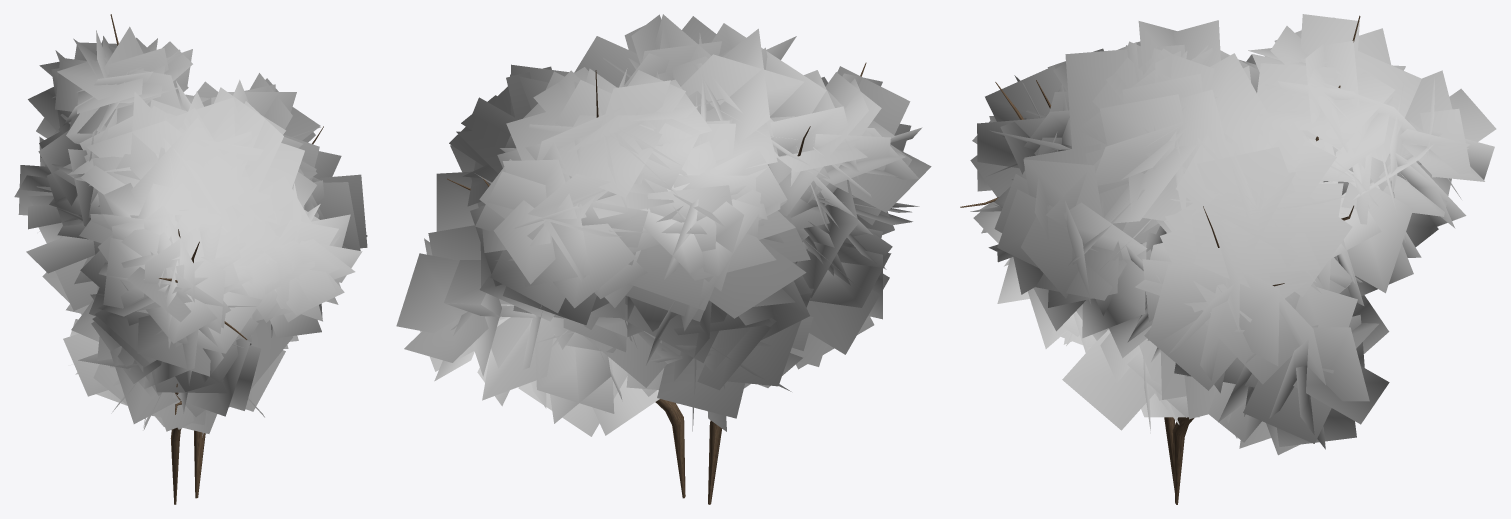
The model's file is Bush_02.fbx.
3 views of the same model, side by side, from view 1: azimuth 30°, elevation 25°; view 2: azimuth 150°, elevation 25°; view 3: azimuth 270°, elevation 25° (orthographic). The views are drawn at different scales.
Visible parts, largest first — view 1: Bush_02_LOD0; view 2: Bush_02_LOD0; view 3: Bush_02_LOD0.
Part boxes in pixels (x1,y1,x2,y2): Bush_02_LOD0: [14, 14, 367, 504]; Bush_02_LOD0: [396, 14, 931, 504]; Bush_02_LOD0: [960, 14, 1496, 504].
Size of what is drawn, in the model's own units: 1.08 by 1.34 by 1.34.
